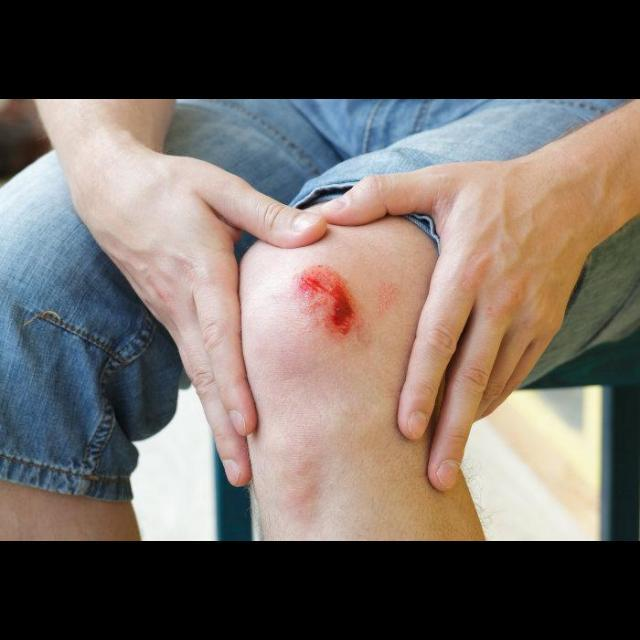blood: (296, 265, 358, 335)
